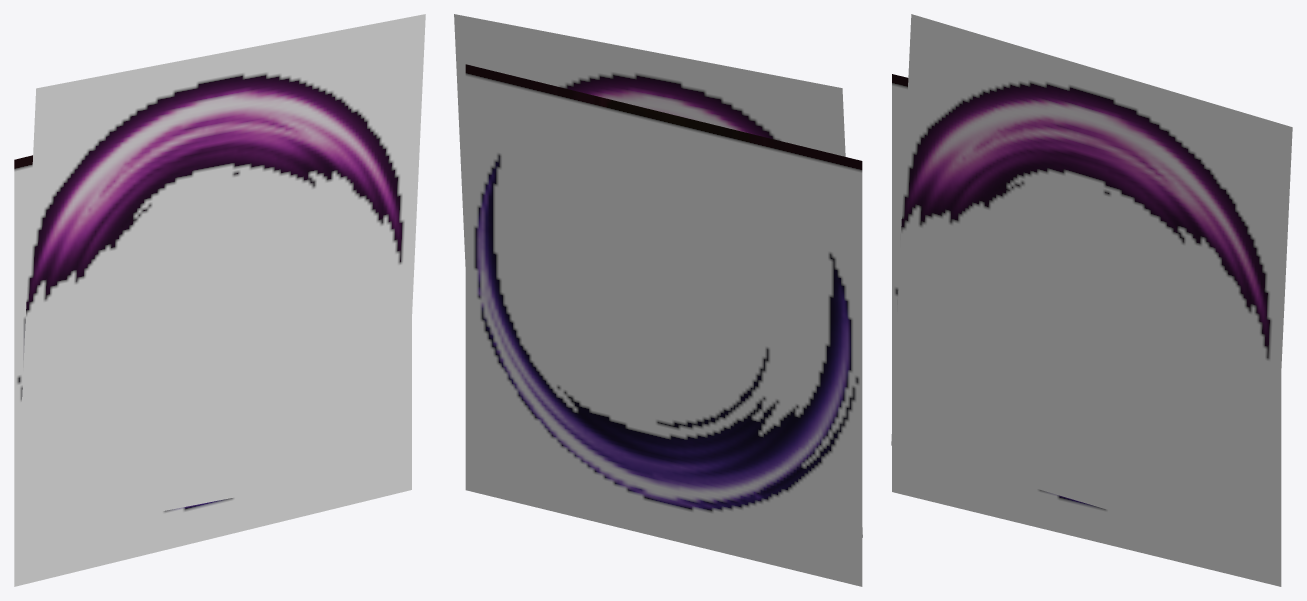
File: fbx_skill_104_x_twinblade_attack_1r.FBX
The picture shows the model from 3 angles, left to right: view 1: azimuth 30°, elevation 25°; view 2: azimuth 150°, elevation 25°; view 3: azimuth 330°, elevation 25°; orthographic projection. The views are drawn at different scales.
Visible parts, largest first — view 1: Plane001; view 2: Plane001; view 3: Plane001.
Boxes of the visible parts, bbox=[...] form: Plane001: bbox=[14, 14, 425, 586]; Plane001: bbox=[454, 14, 862, 586]; Plane001: bbox=[891, 14, 1292, 586].
Bounding box in the file's own units: 80.45 × 0.3673 × 92.57.
Materials: 1 (1 with a texture image).
